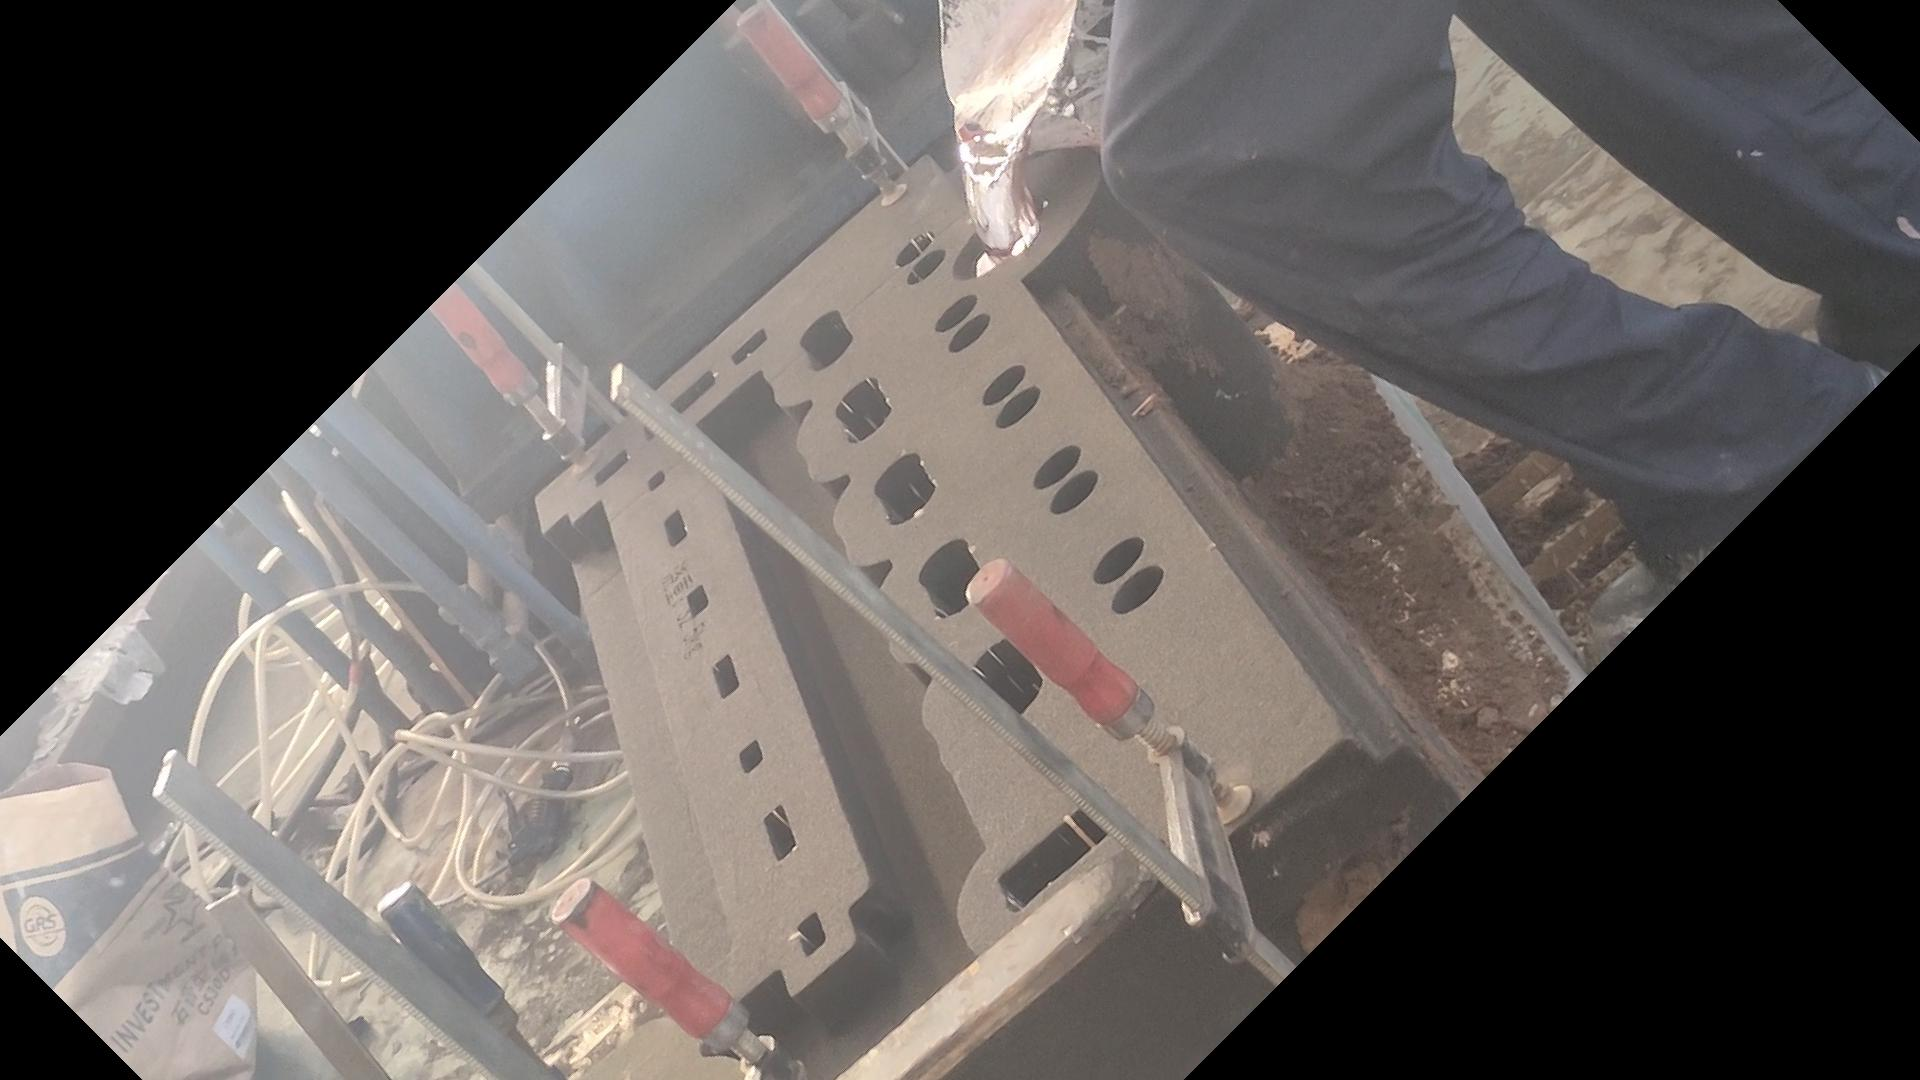pouring hole: (949, 198, 1044, 280)
